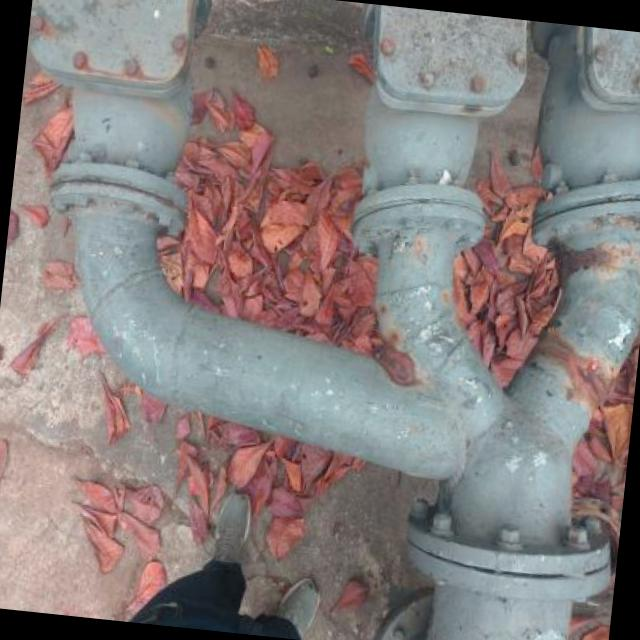gas: (84, 0, 640, 640)
